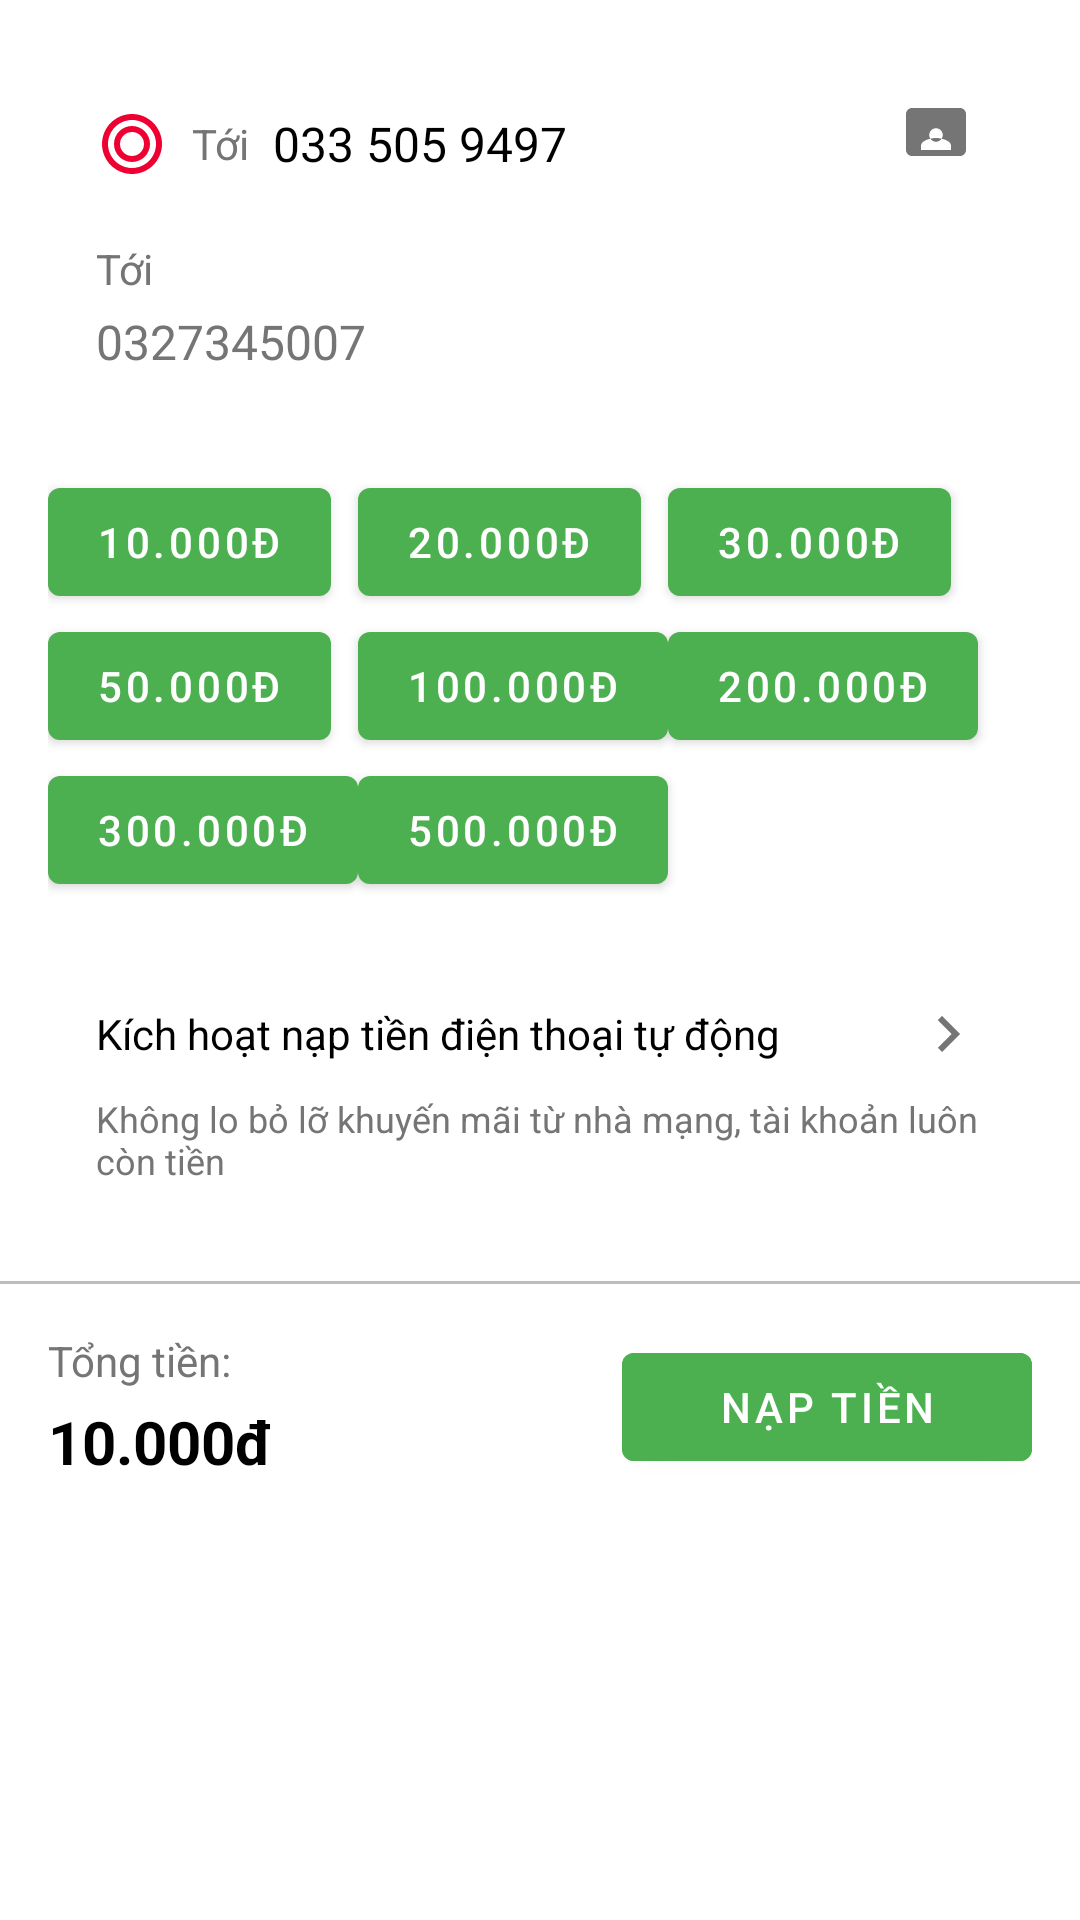

Locate icon controls on the screen. Image size 1080px×1920px, boxes as (x1, y1, x2, y2).
arrow right: (938, 1016, 960, 1052)
contacts: (906, 108, 966, 156)
